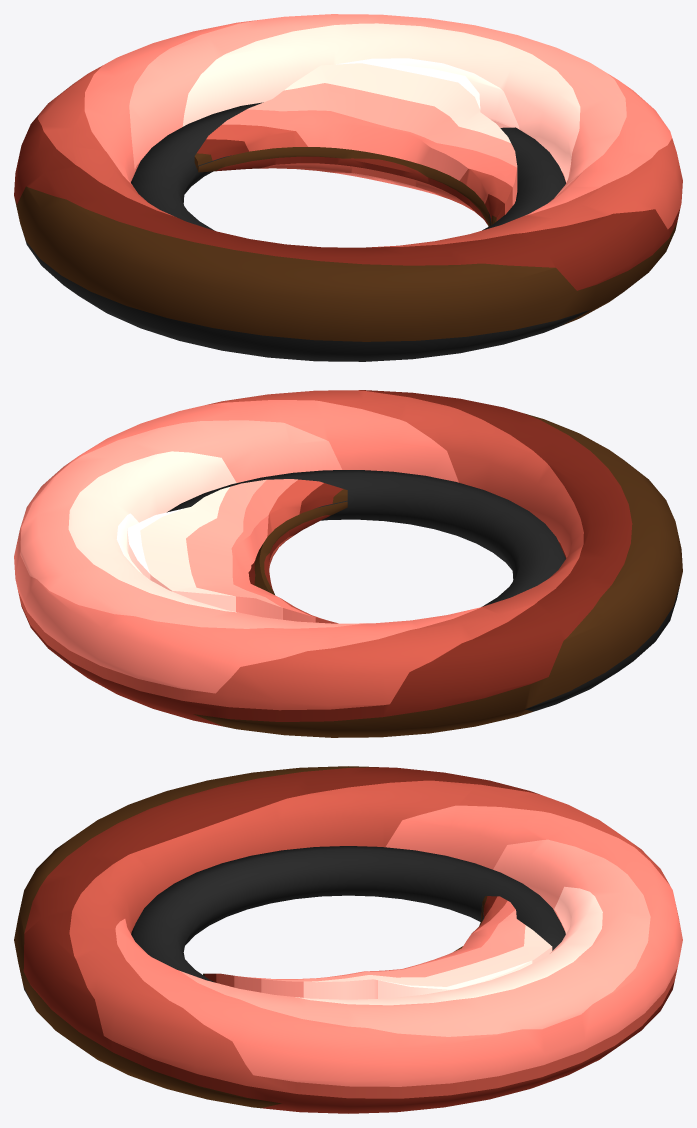
The model's file is pulse_ring_76.glb.
3 renders of one model, top to bottom at view 1: azimuth 30°, elevation 25°; view 2: azimuth 150°, elevation 25°; view 3: azimuth 270°, elevation 25°, orthographic.
Visible parts, largest first — view 1: pulse_ring_76_band, pulse_ring_76_crescent, pulse_ring_76_lip; view 2: pulse_ring_76_band, pulse_ring_76_crescent, pulse_ring_76_lip; view 3: pulse_ring_76_band, pulse_ring_76_lip, pulse_ring_76_crescent.
Boxes of the visible parts, left/top/right/bottom form: pulse_ring_76_band: left=14, top=14, right=682, bottom=361; pulse_ring_76_crescent: left=194, top=63, right=517, bottom=226; pulse_ring_76_lip: left=131, top=102, right=565, bottom=230; pulse_ring_76_band: left=14, top=390, right=682, bottom=737; pulse_ring_76_crescent: left=127, top=479, right=347, bottom=623; pulse_ring_76_lip: left=167, top=470, right=565, bottom=606; pulse_ring_76_band: left=14, top=766, right=682, bottom=1113; pulse_ring_76_lip: left=131, top=846, right=565, bottom=982; pulse_ring_76_crescent: left=203, top=896, right=552, bottom=999.
Bounding box in the file's own units: 12.1 × 1.9 × 12.1.
